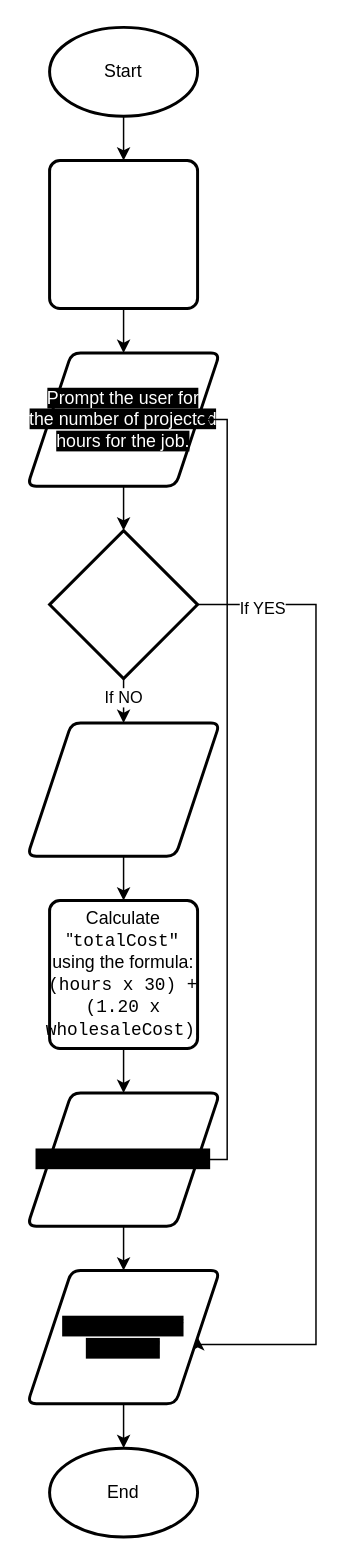
Some shapes in this 354 by 1563 pixel diagram are drawn without their labels. The shapes that lost their labels are listed below. From the top down, each one's box as (x1, y1, x2, y2) in pixels, then its label:
(47, 158, 198, 309): set variables "hours", "totalCost" "wholesaleCost"
(47, 528, 198, 679): "hours" = 0
(25, 721, 221, 857): Get the wholesale cost of materials
